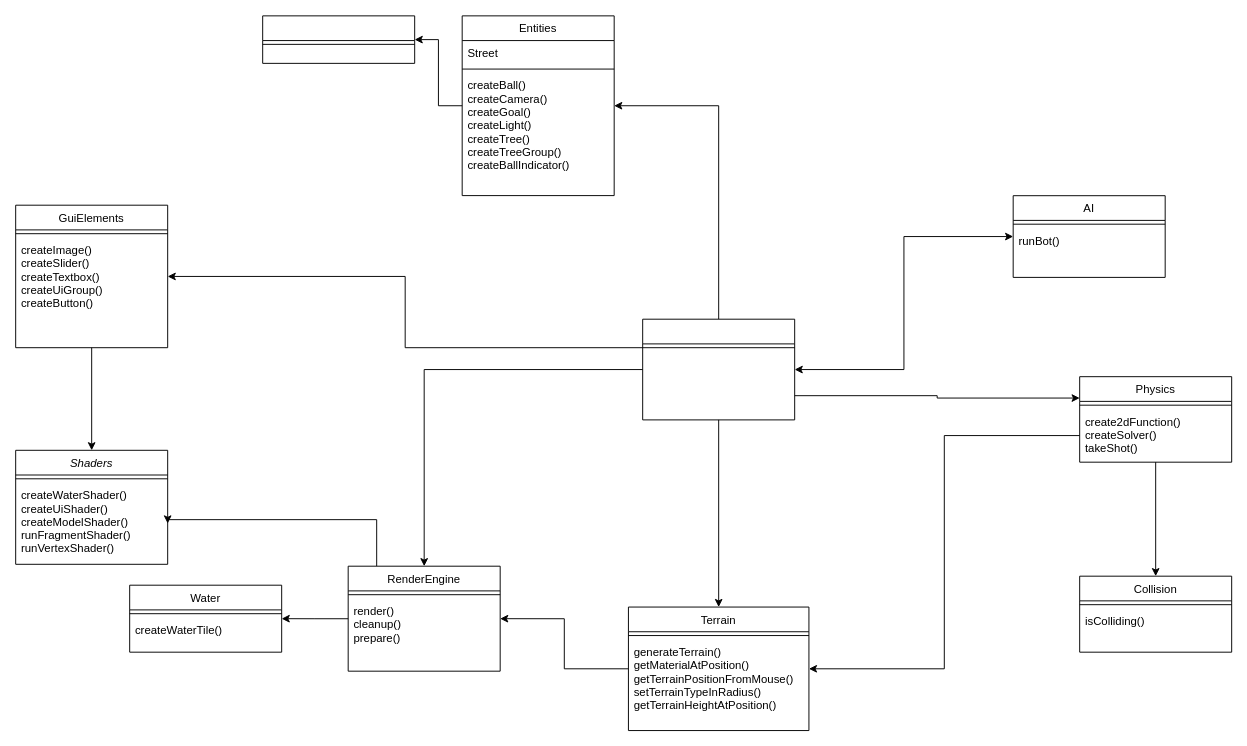
Image size: 1247x746. Some labels were removed from this diagram. The shapes that lost their labels are listed below. From the top down, each one's centre as x and y in pixels, then its label:
At point (338, 39): "Models".
At point (718, 369): "MainGame".
